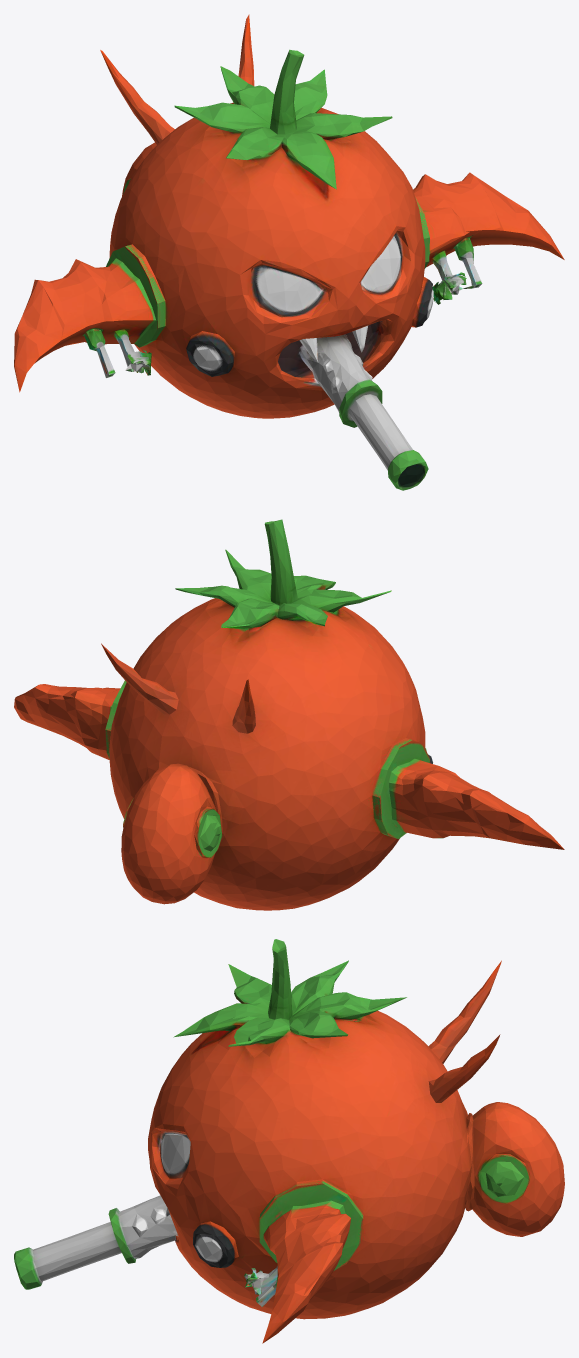
The model's file is boss.glb.
3 renders of one model, top to bottom at view 1: azimuth 30°, elevation 25°; view 2: azimuth 150°, elevation 25°; view 3: azimuth 270°, elevation 25°, orthographic.
Visible parts, largest first — view 1: tripo_node_a91c0bef-1c1b-4192-9c72-8a504913ef66; view 2: tripo_node_a91c0bef-1c1b-4192-9c72-8a504913ef66; view 3: tripo_node_a91c0bef-1c1b-4192-9c72-8a504913ef66.
Part boxes in pixels (x1=…): tripo_node_a91c0bef-1c1b-4192-9c72-8a504913ef66: x1=14, y1=14, x2=564, y2=490; tripo_node_a91c0bef-1c1b-4192-9c72-8a504913ef66: x1=14, y1=519, x2=564, y2=910; tripo_node_a91c0bef-1c1b-4192-9c72-8a504913ef66: x1=14, y1=939, x2=564, y2=1343.
Size of the model in its own units: 1 by 0.6356 by 0.863.
Materials: 1 (1 with a texture image).
